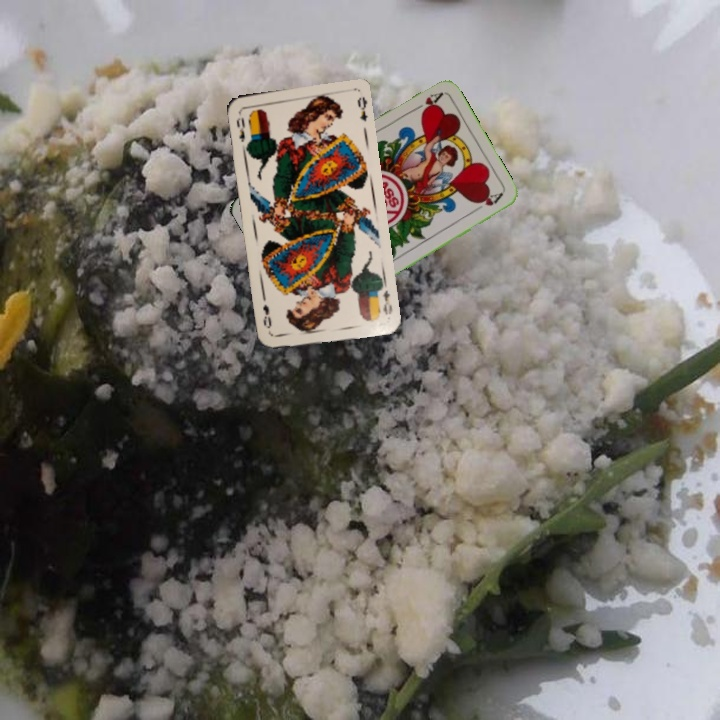EO: (232, 113, 248, 144), (379, 286, 395, 317)
HA: (407, 89, 445, 117)
